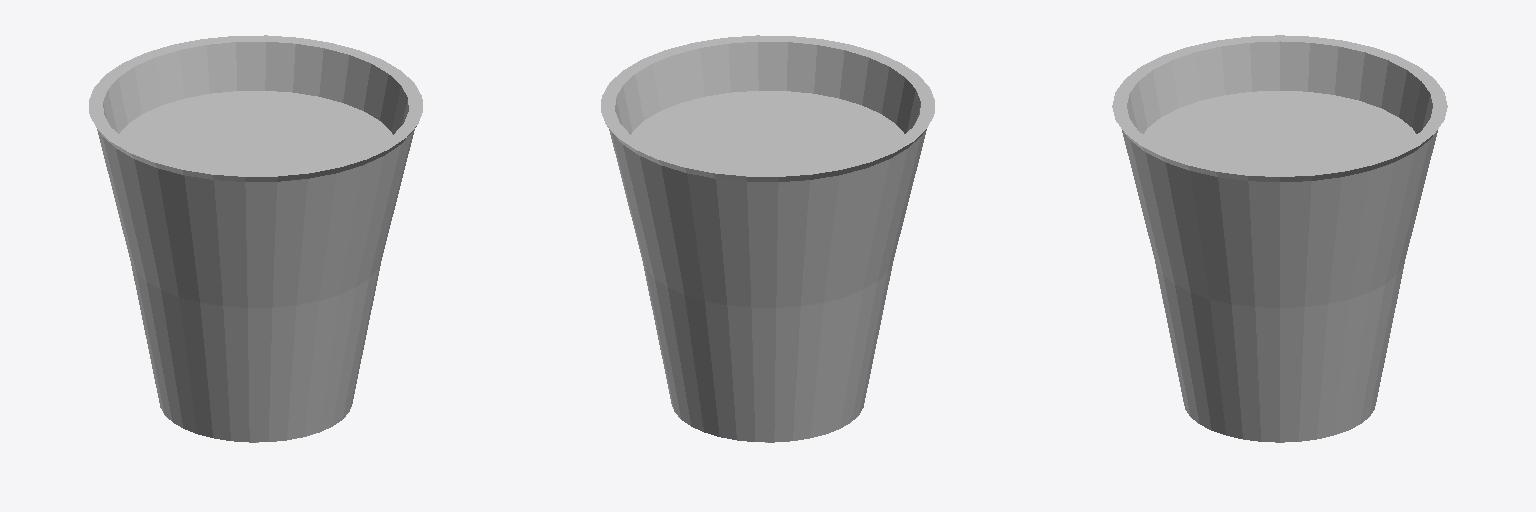
File: Big_C_Cup_Full_01.obj
3 views of the same model, side by side, from view 1: azimuth 30°, elevation 25°; view 2: azimuth 150°, elevation 25°; view 3: azimuth 270°, elevation 25° (orthographic).
Parts seen in each view (by area): view 1: Cup_01_Cylinder; view 2: Cup_01_Cylinder; view 3: Cup_01_Cylinder.
Part boxes in pixels (left/top/right/bottom): Cup_01_Cylinder: left=89, top=35, right=422, bottom=442; Cup_01_Cylinder: left=601, top=35, right=934, bottom=442; Cup_01_Cylinder: left=1112, top=35, right=1447, bottom=442.
Bounding box in the file's own units: 2.05 × 2.02 × 2.05.